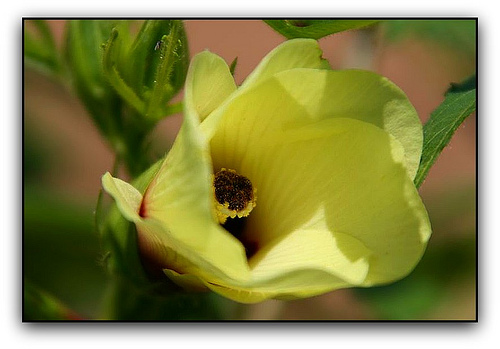okra: (98, 36, 435, 308)
